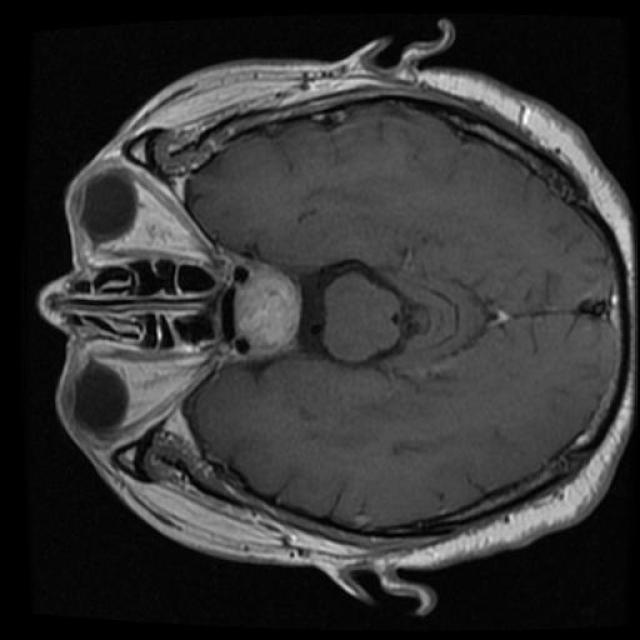Pituitary: (215, 262, 302, 361)
